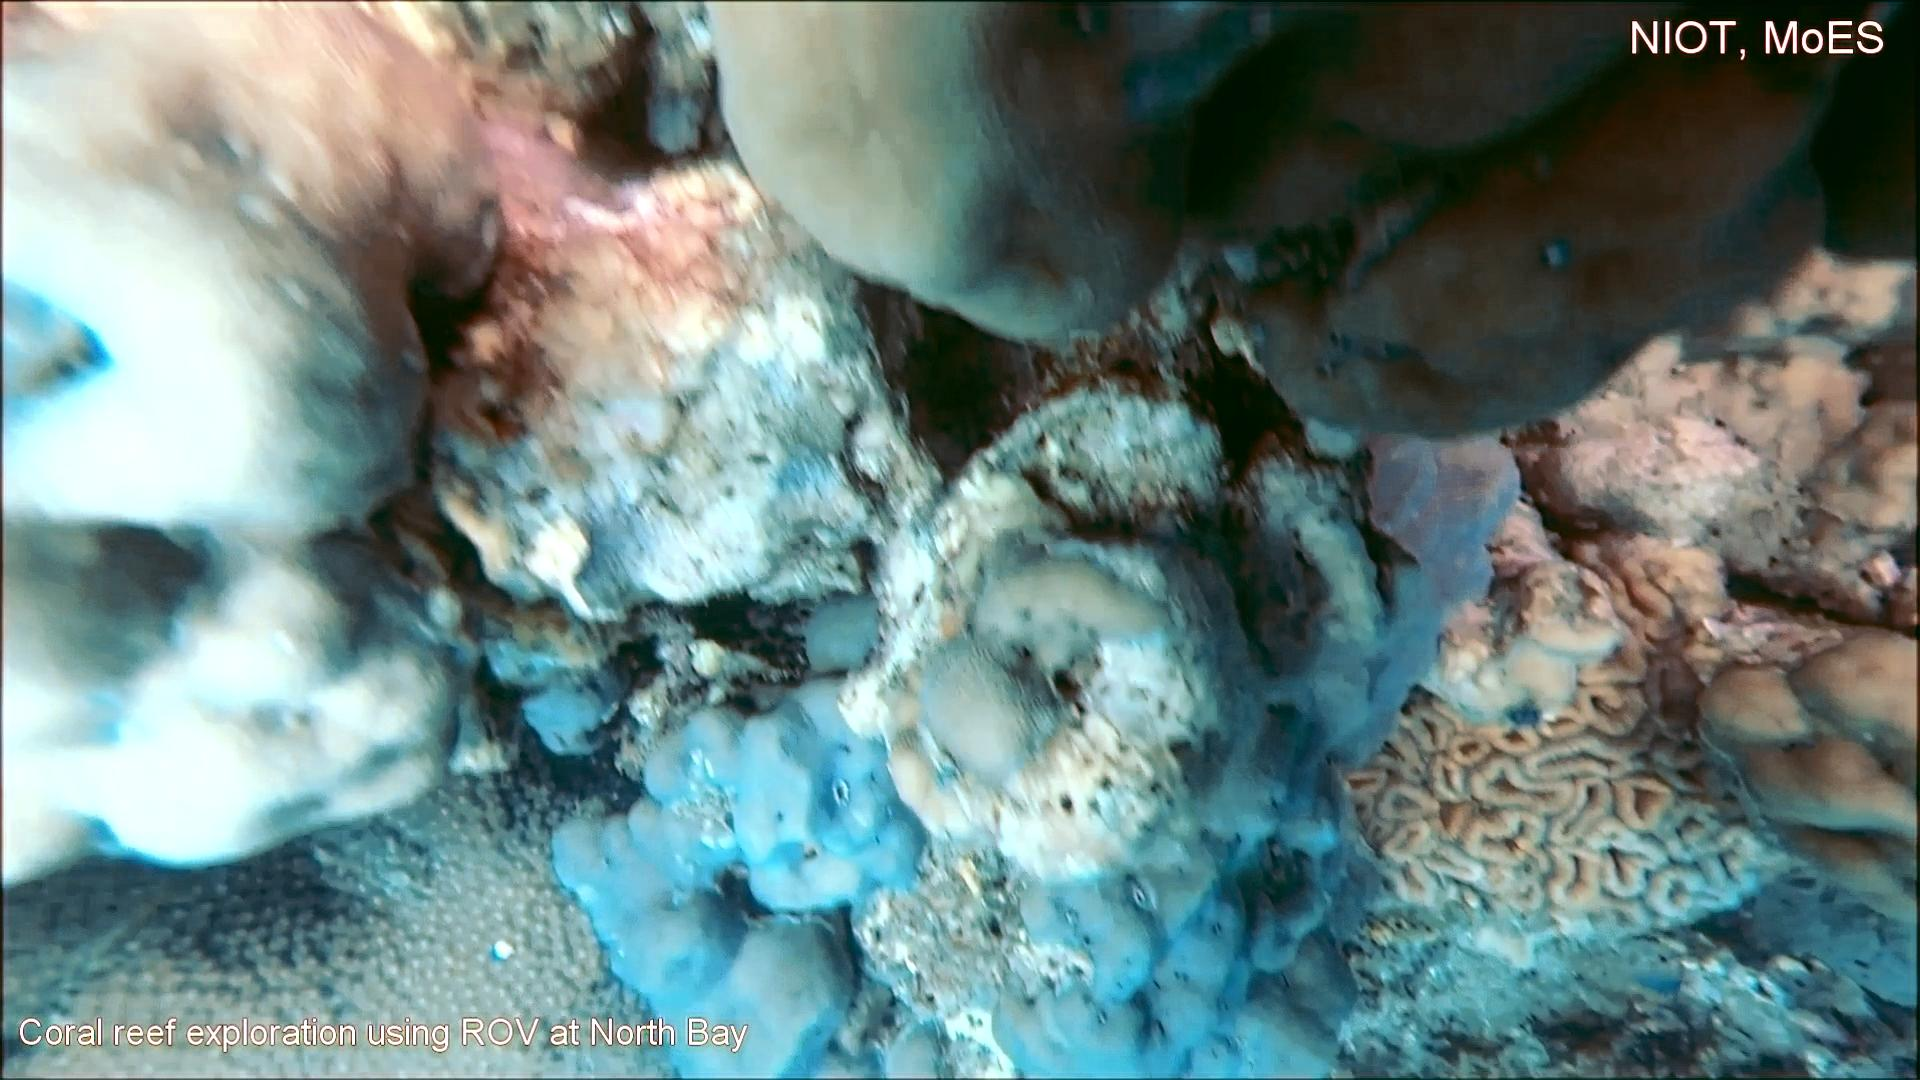Lobophyllia: (1340, 541, 1799, 952)
